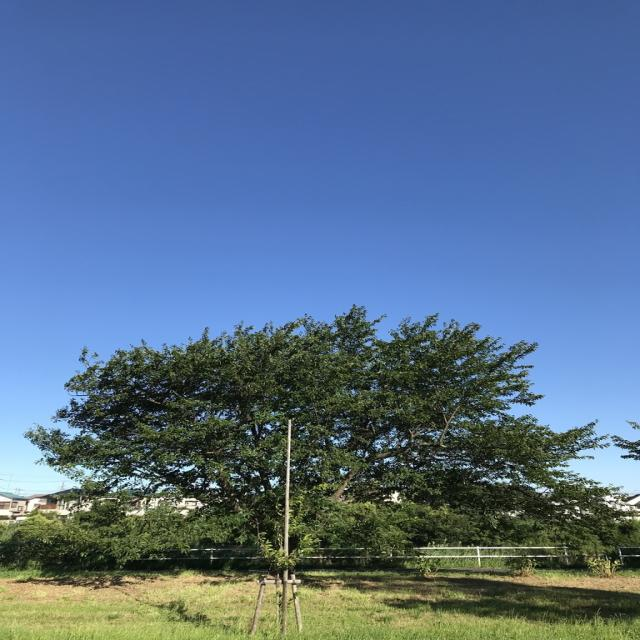sakura: (23, 303, 640, 567)
